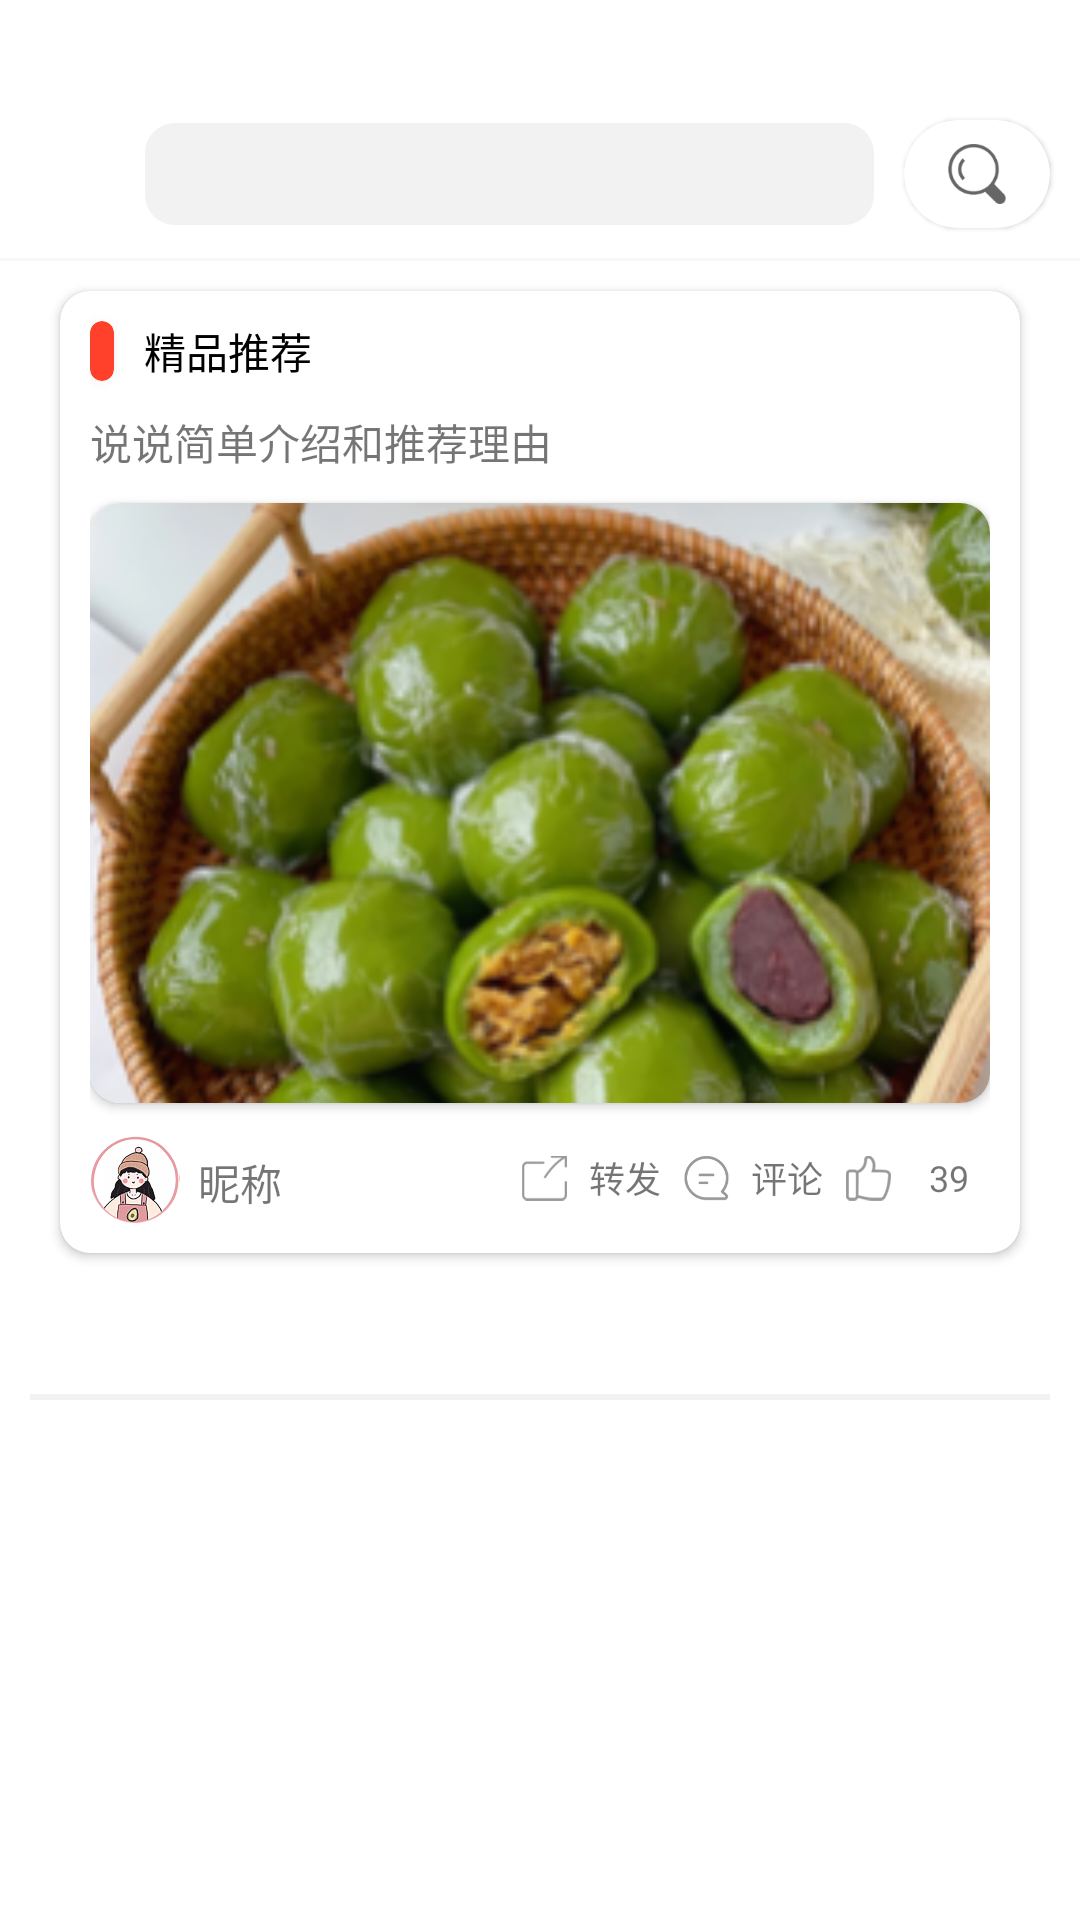

Locate icon controls on the screen. Image size 1080 × 1920, boxes as (x1, y1, x2, y2).
head: (91, 1137, 180, 1223)
like: (846, 1156, 891, 1201)
search: (948, 144, 1006, 204)
